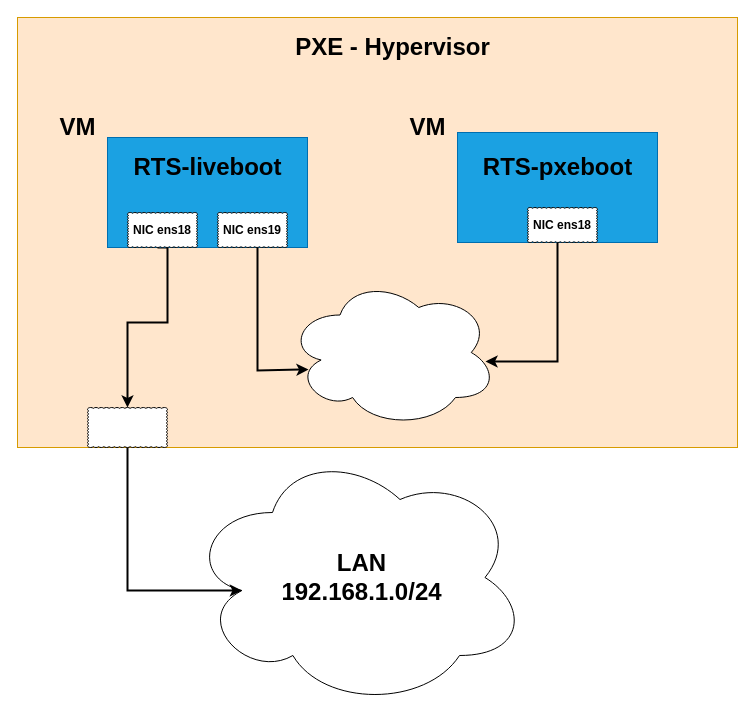
Some shapes in this 755 by 725 pixel diagram are drawn without their labels. Each missing label, with the centre of its shape:
BR01: the point at 127,427
Host only network 10.1.1.0: the point at 392,352
